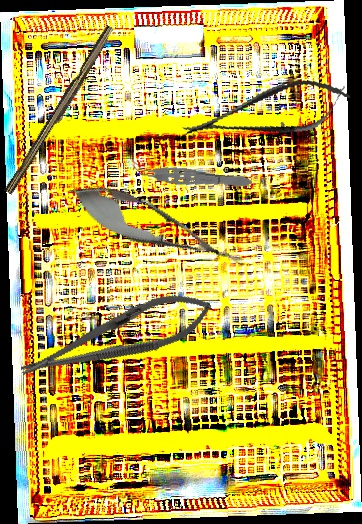Micro Scissor: (59, 170, 255, 285), (177, 71, 356, 154)
Needle Holder: (13, 280, 219, 395)
Scalpel Handle: (3, 23, 118, 198)
Tissue Forceps: (129, 159, 253, 193)
